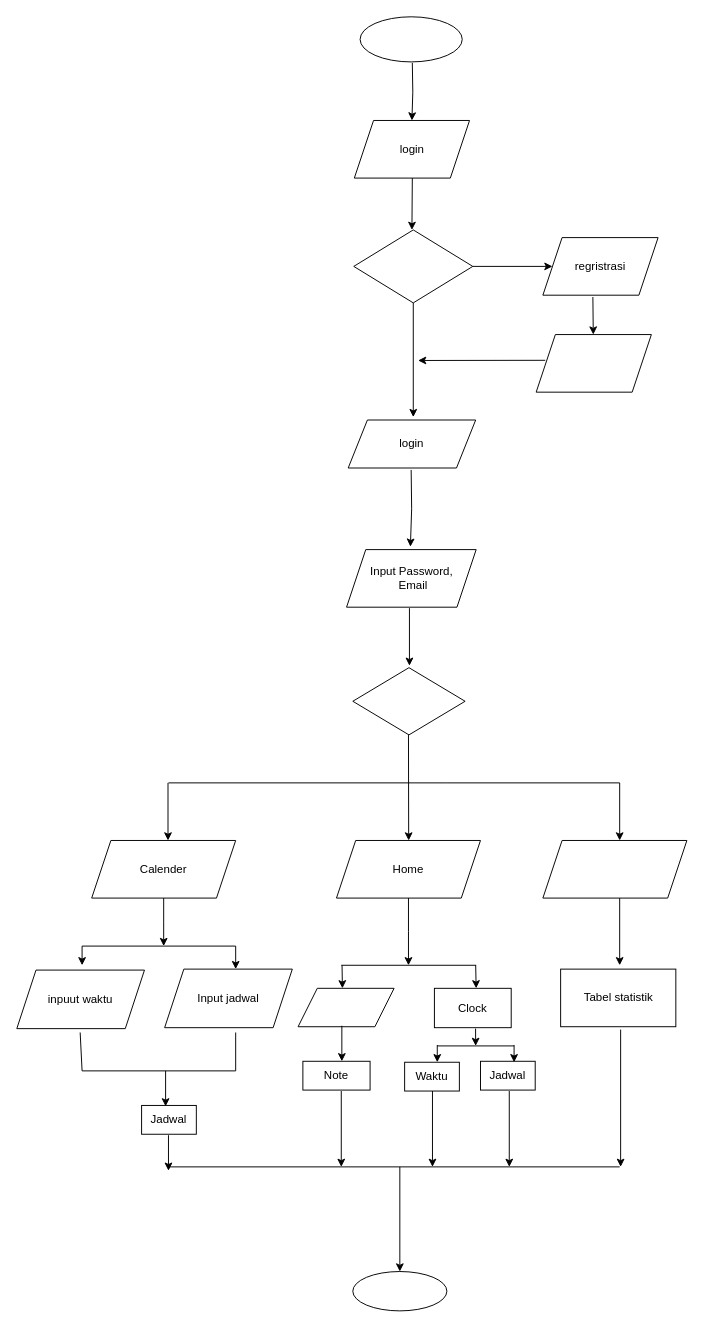
The diagram is 704 pixels wide and 1328 high, and some of its shapes have lost their labels. Here are the shapes that lost their labels. From the top down, the centre of each, then its label:
At (410,39): "Mulai".
At (413,266): "sudah punya akun/ belum".
At (593,363): "Input username, email, password dan konfirmasi password.".
At (408,701): "Filter".
At (614,869): "Statistik".
At (345,1007): "Input note".
At (399,1291): "Selesai".
